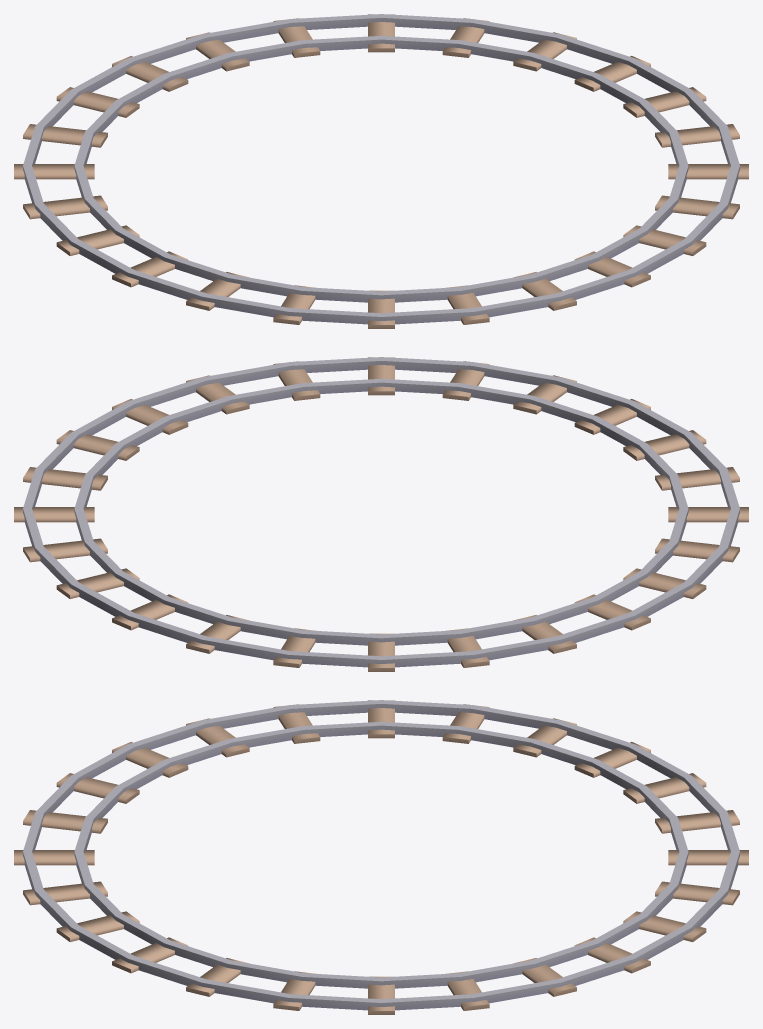
File: toy-train-track-round.glb
3 views of the same model, one above another, from view 1: azimuth 30°, elevation 25°; view 2: azimuth 150°, elevation 25°; view 3: azimuth 270°, elevation 25° (orthographic).
Parts seen in each view (by area): view 1: toy-train-track-round; view 2: toy-train-track-round; view 3: toy-train-track-round.
Boxes of the visible parts, x1,y1,x2,y2 form: toy-train-track-round: (14, 14, 748, 328); toy-train-track-round: (14, 357, 748, 671); toy-train-track-round: (14, 700, 748, 1014).
Bounding box in the file's own units: 0.82 × 0.01 × 0.82.
